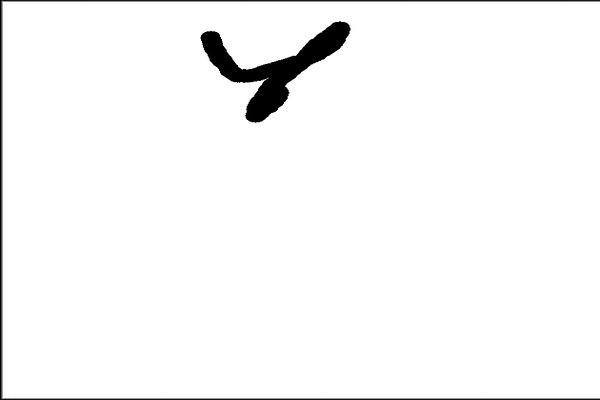Y: (182, 20, 362, 125)
